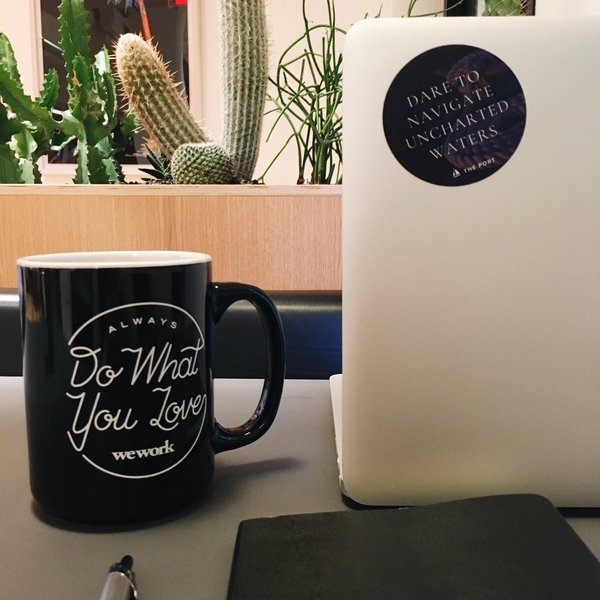wework: (109, 438, 178, 462)
